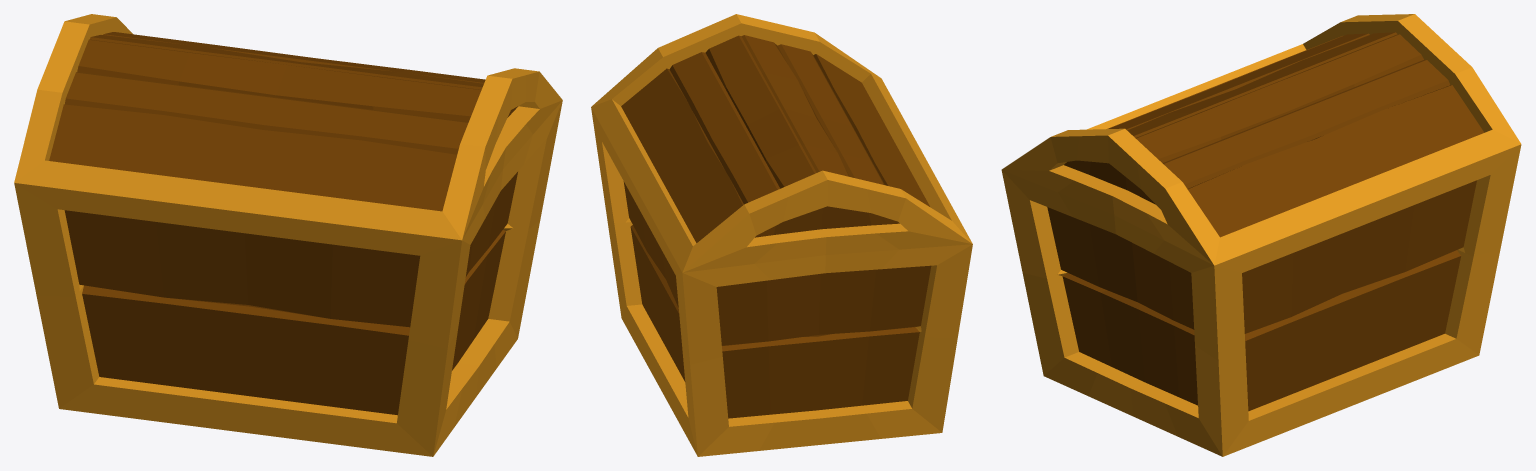
File: chest12122025.fbx
3 renders of one model, left to right at view 1: azimuth 30°, elevation 25°; view 2: azimuth 150°, elevation 25°; view 3: azimuth 270°, elevation 25°, orthographic. The views are drawn at different scales.
Visible parts, largest first — view 1: chest -col; view 2: chest -col; view 3: chest -col.
Part boxes in pixels (bbox=[...]): chest -col: bbox=[14, 14, 562, 456]; chest -col: bbox=[591, 14, 972, 456]; chest -col: bbox=[1001, 14, 1521, 456].
Bounding box in the file's own units: 278 × 173 × 280.
